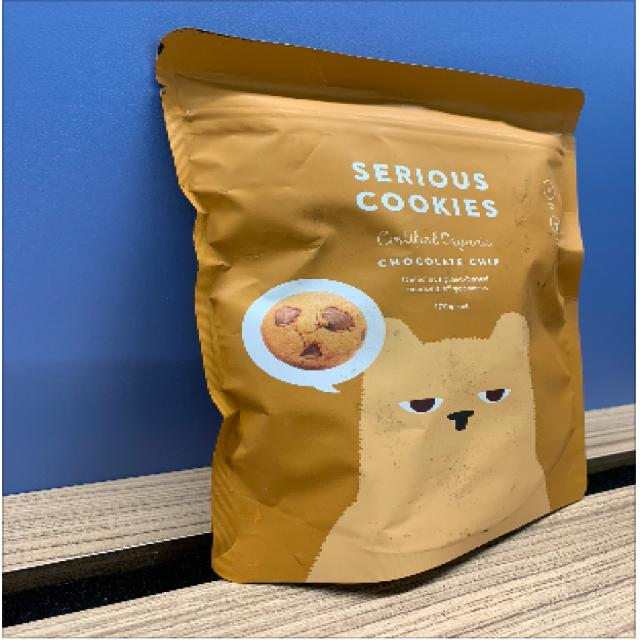object_name: (191, 49, 586, 556)
